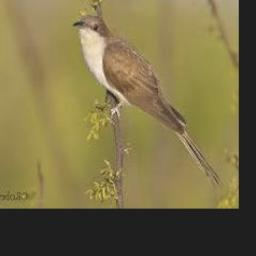Cuckoo: (73, 15, 222, 186)
